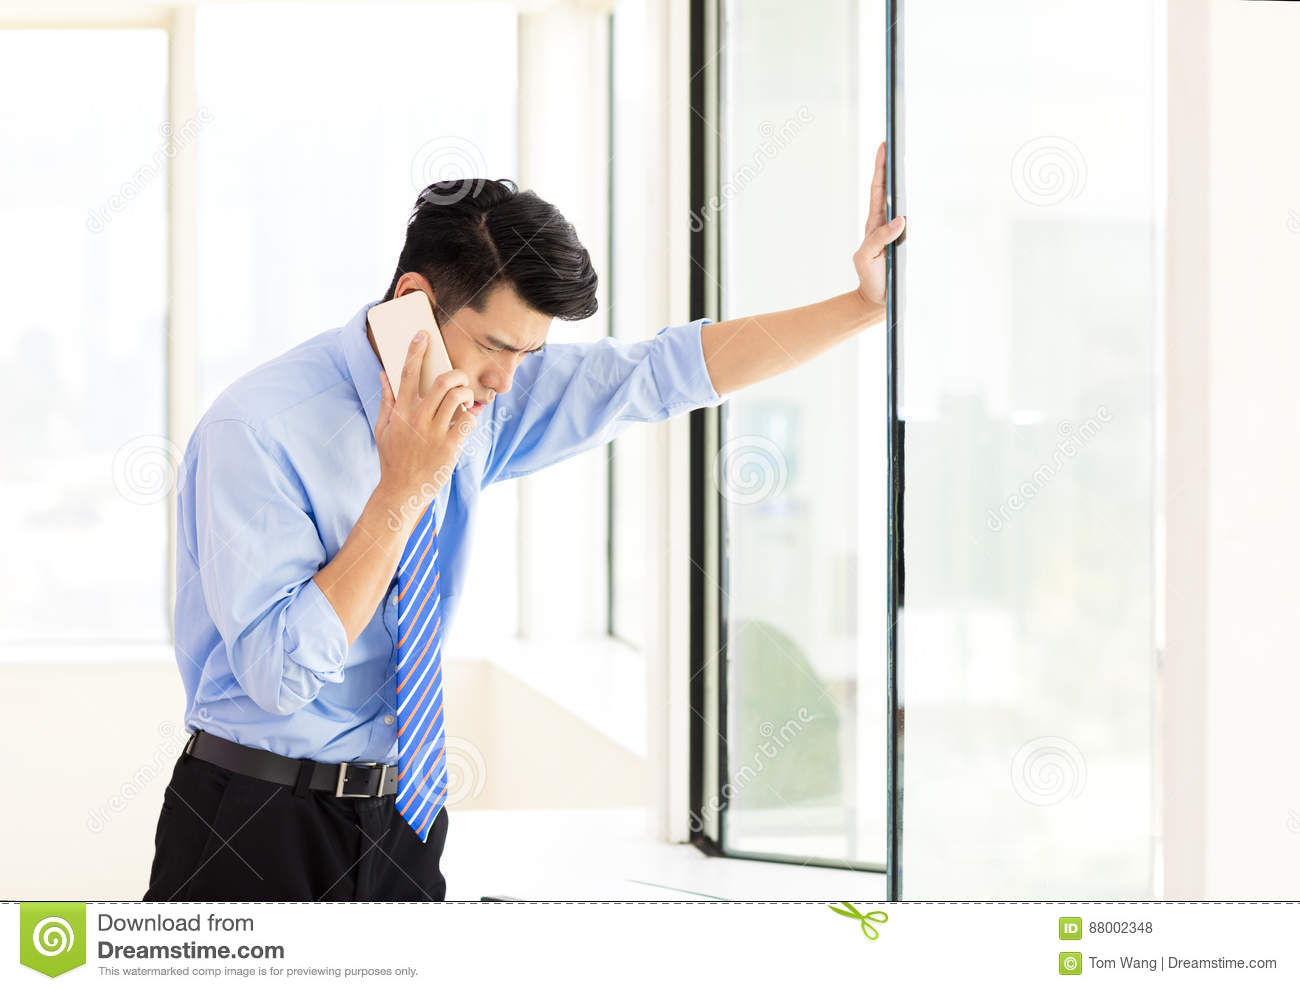phone: (367, 291, 467, 432)
talk: (368, 271, 547, 488)
